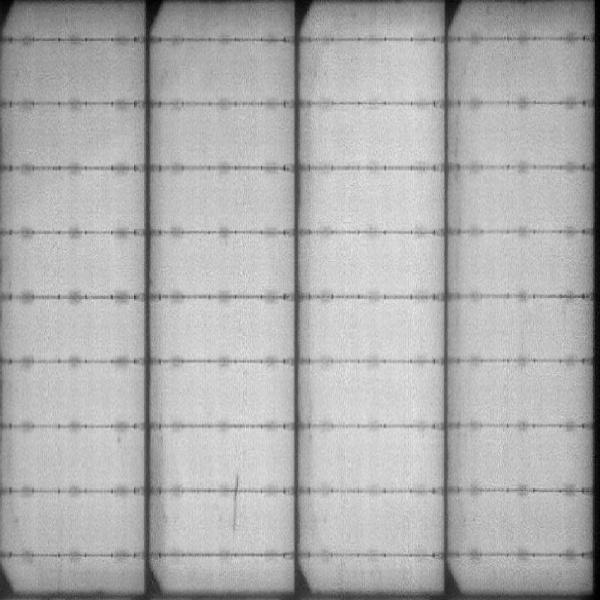scratch: (225, 464, 244, 540)
